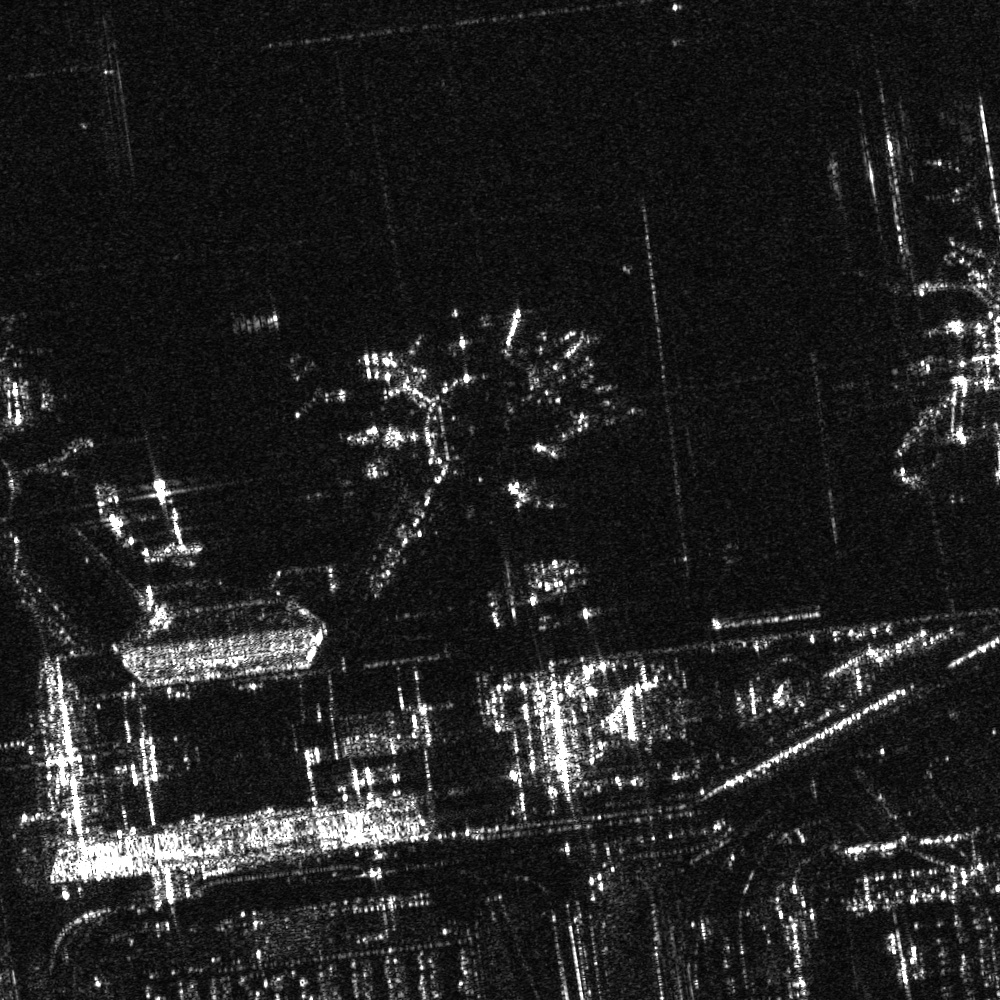A220: (293, 355, 351, 420), (312, 469, 357, 510)
Boeing737: (923, 154, 989, 208)
